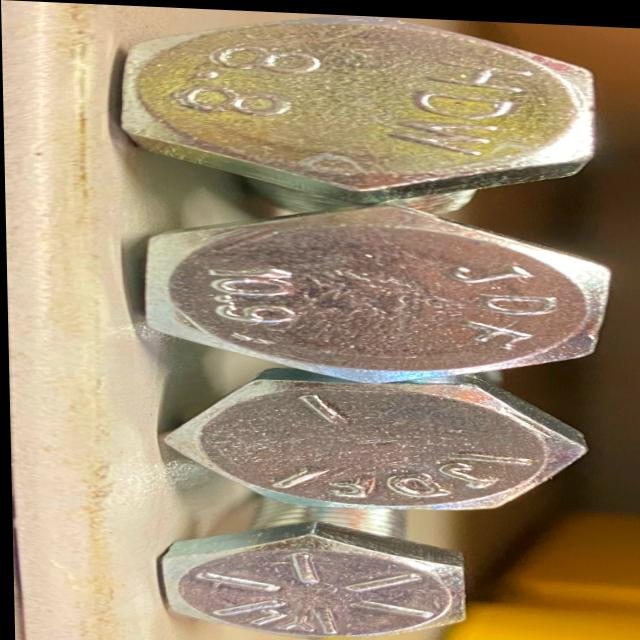Regular bolt: (115, 7, 608, 211), (140, 193, 613, 387), (161, 368, 591, 515), (167, 514, 469, 640)
